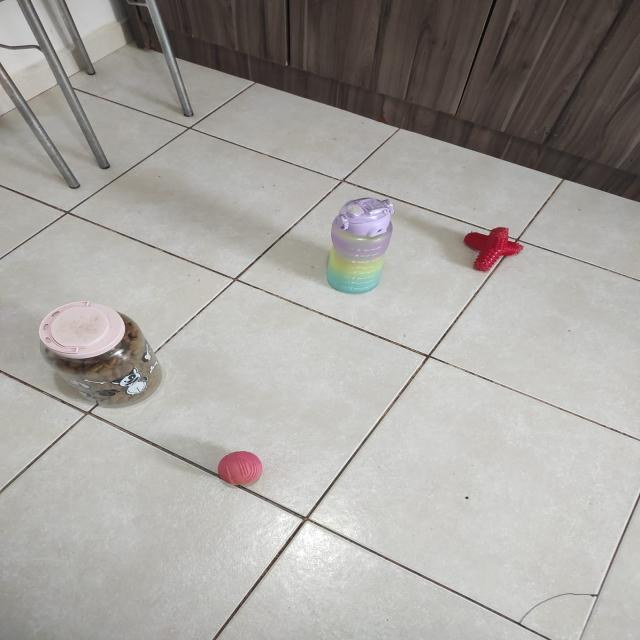bolinha: (198, 440, 268, 494)
brinquedo caro: (458, 223, 528, 275)
garrafinha de agua: (318, 190, 397, 302)
racao: (17, 290, 186, 418)
